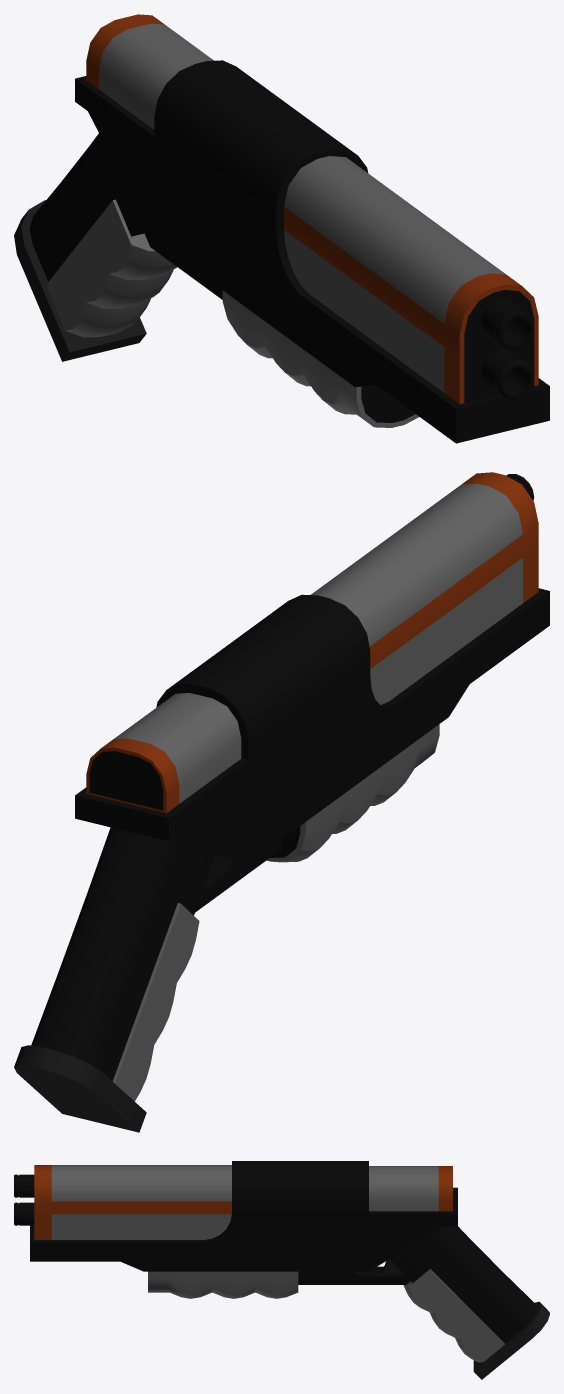
File: Pistol_2.fbx
3 renders of one model, top to bottom at view 1: azimuth 30°, elevation 25°; view 2: azimuth 150°, elevation 25°; view 3: azimuth 270°, elevation 25°, orthographic. The views are drawn at different scales.
Parts seen in each view (by area): view 1: Pistol_2; view 2: Pistol_2; view 3: Pistol_2.
Boxes of the visible parts, x1=… form: Pistol_2: x1=14, y1=14, x2=549, y2=443; Pistol_2: x1=14, y1=472, x2=549, y2=1132; Pistol_2: x1=14, y1=1161, x2=549, y2=1379.
Size of the model in its own units: 0.1124 by 0.4161 by 0.9899.
